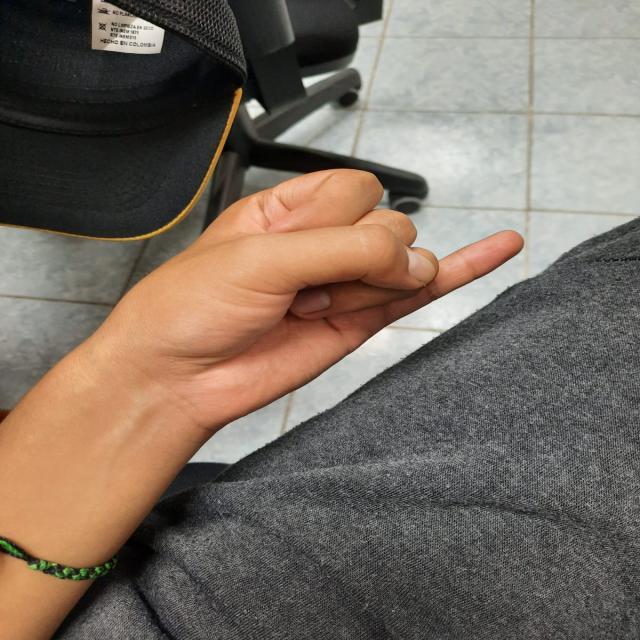Z: (89, 149, 546, 451)
